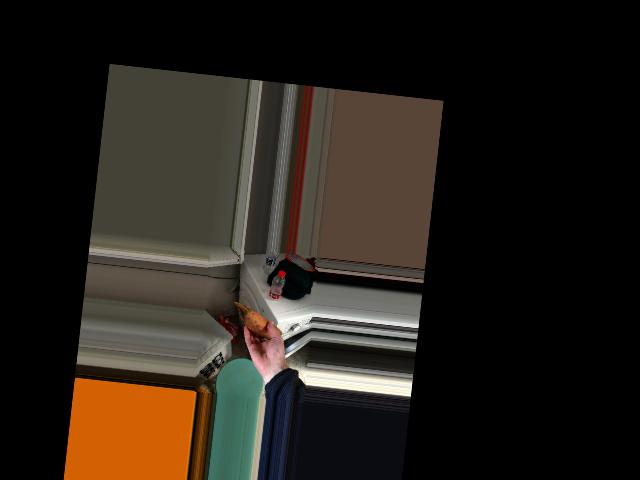sweet_potato: (243, 309, 279, 344)
